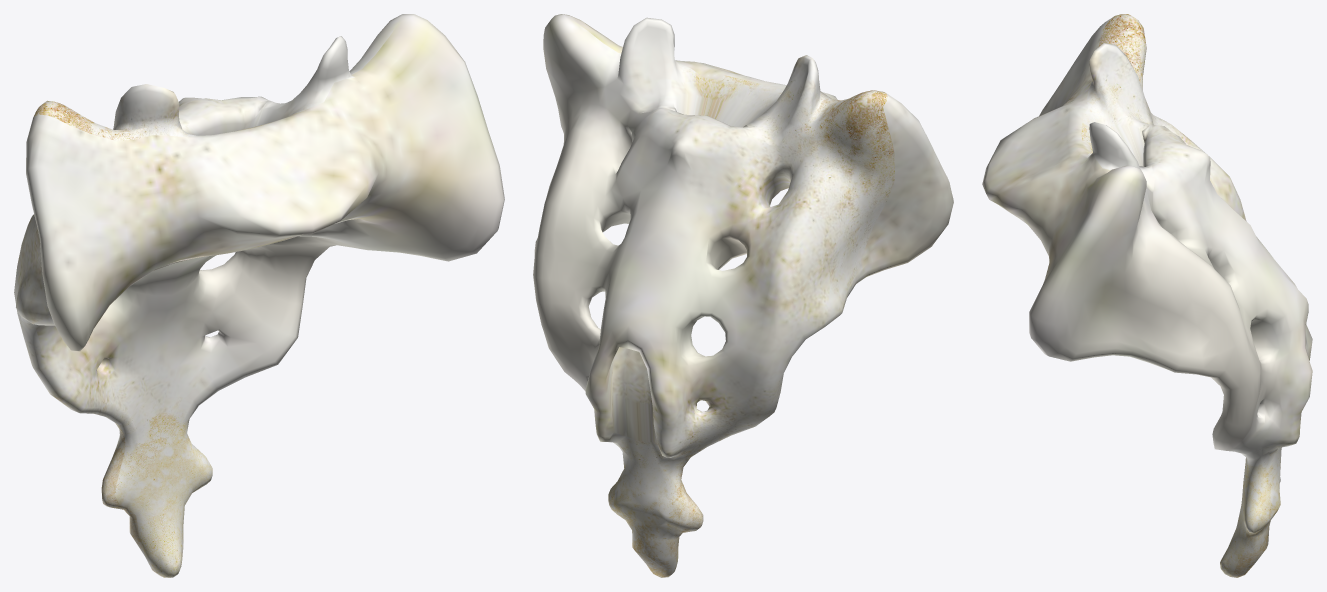
The model's file is SACRUM.glb.
3 views of the same model, side by side, from view 1: azimuth 30°, elevation 25°; view 2: azimuth 150°, elevation 25°; view 3: azimuth 270°, elevation 25° (orthographic). The views are drawn at different scales.
Parts seen in each view (by area): view 1: Sacrum; view 2: Sacrum; view 3: Sacrum.
Boxes of the visible parts, bbox=[...] form: Sacrum: bbox=[14, 14, 504, 577]; Sacrum: bbox=[533, 14, 953, 577]; Sacrum: bbox=[982, 14, 1312, 577].
Size of the model in its own units: 89.06 by 108 by 65.38.
Materials: 1 (1 with a texture image).
